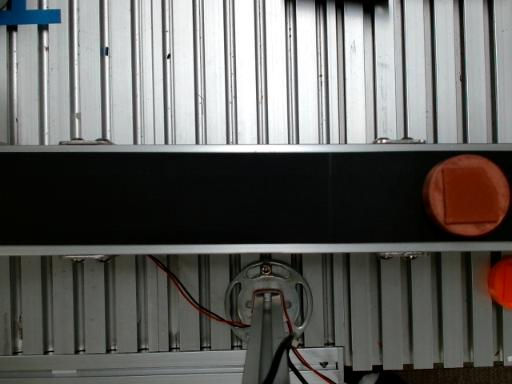Brown_Waper: (423, 154, 510, 237)
Not_Square: (442, 167, 500, 225)
